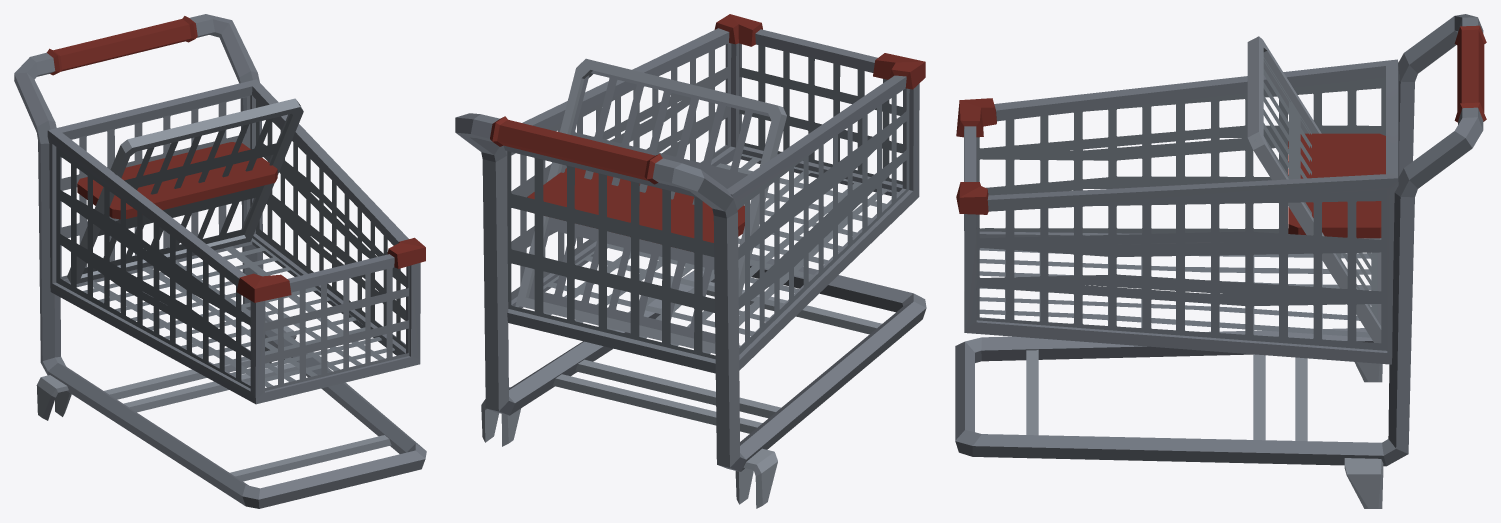
Rendered from SM_Prop_ShoppingCart_01_657.obj.
The picture shows the model from 3 angles, left to right: view 1: azimuth 30°, elevation 25°; view 2: azimuth 150°, elevation 25°; view 3: azimuth 270°, elevation 25°; orthographic projection. The views are drawn at different scales.
Parts seen in each view (by area): view 1: SM_Prop_ShoppingCart_01_1, SM_Prop_ShoppingCart_01_0; view 2: SM_Prop_ShoppingCart_01_1, SM_Prop_ShoppingCart_01_0; view 3: SM_Prop_ShoppingCart_01_1, SM_Prop_ShoppingCart_01_0.
Boxes of the visible parts, x1,y1,x2,y2 form: SM_Prop_ShoppingCart_01_1: (14,14,426,508); SM_Prop_ShoppingCart_01_0: (56,95,409,390); SM_Prop_ShoppingCart_01_1: (455,14,926,508); SM_Prop_ShoppingCart_01_0: (507,43,909,359); SM_Prop_ShoppingCart_01_1: (955,14,1486,508); SM_Prop_ShoppingCart_01_0: (976,57,1387,350).
Bounding box in the file's own units: 0.8419 × 1.06 × 1.35.
2 materials, 2 textured.
